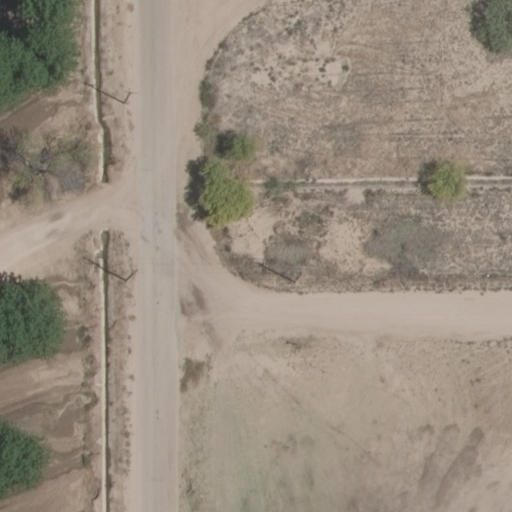DT: (113, 85, 140, 107), (286, 263, 308, 290), (119, 264, 143, 286)
